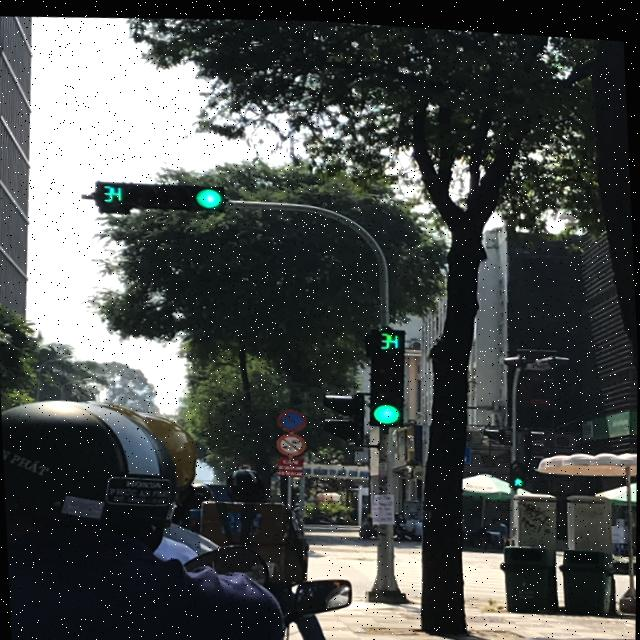Green: (121, 163, 230, 226), (364, 343, 413, 427)
